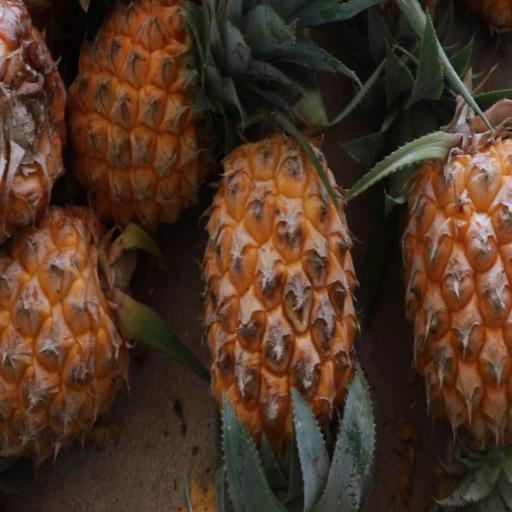Pineapple - v8 v1: (194, 122, 363, 512), (392, 96, 512, 462), (56, 0, 238, 241), (0, 193, 142, 472)
